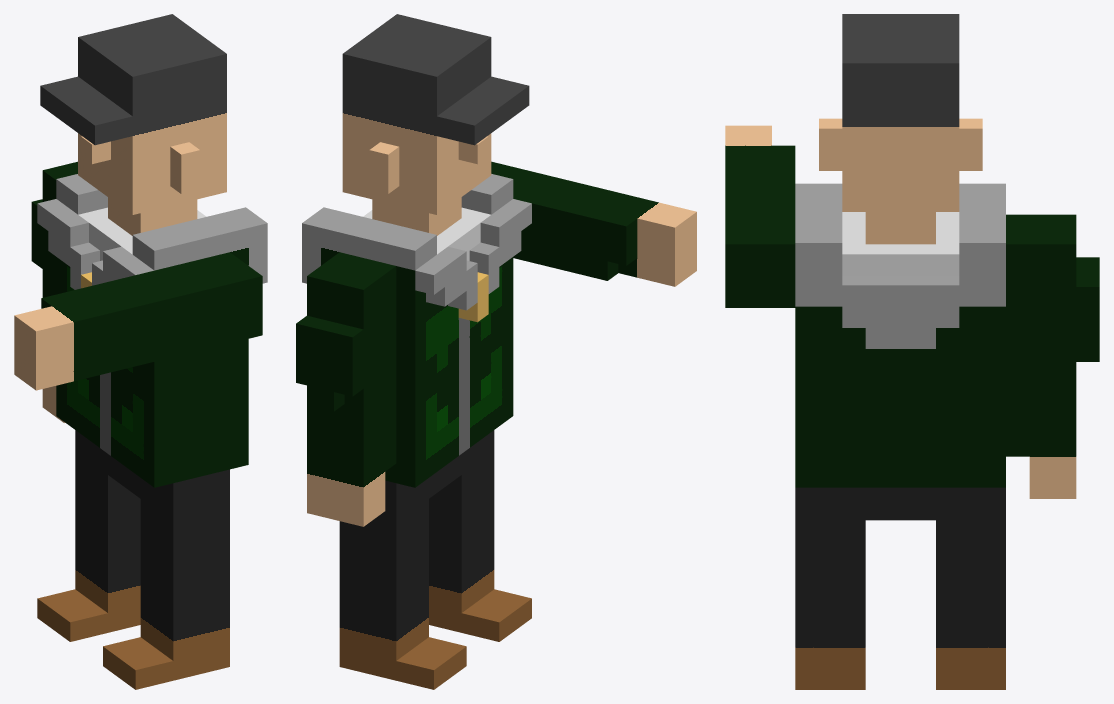
File: man_01_handgun.fbx
The picture shows the model from 3 angles, left to right: view 1: azimuth 30°, elevation 25°; view 2: azimuth 150°, elevation 25°; view 3: azimuth 270°, elevation 25°; orthographic projection. The views are drawn at different scales.
Visible parts, largest first — view 1: man_01_handgun.man_handgun_02; view 2: man_01_handgun.man_handgun_02; view 3: man_01_handgun.man_handgun_02.
Part boxes in pixels (bbox=[...]): man_01_handgun.man_handgun_02: bbox=[14, 14, 267, 689]; man_01_handgun.man_handgun_02: bbox=[296, 14, 696, 689]; man_01_handgun.man_handgun_02: bbox=[725, 14, 1099, 689].
Size of the model in its own units: 1.4 by 3 by 1.6.
Materials: 1 (1 with a texture image).
